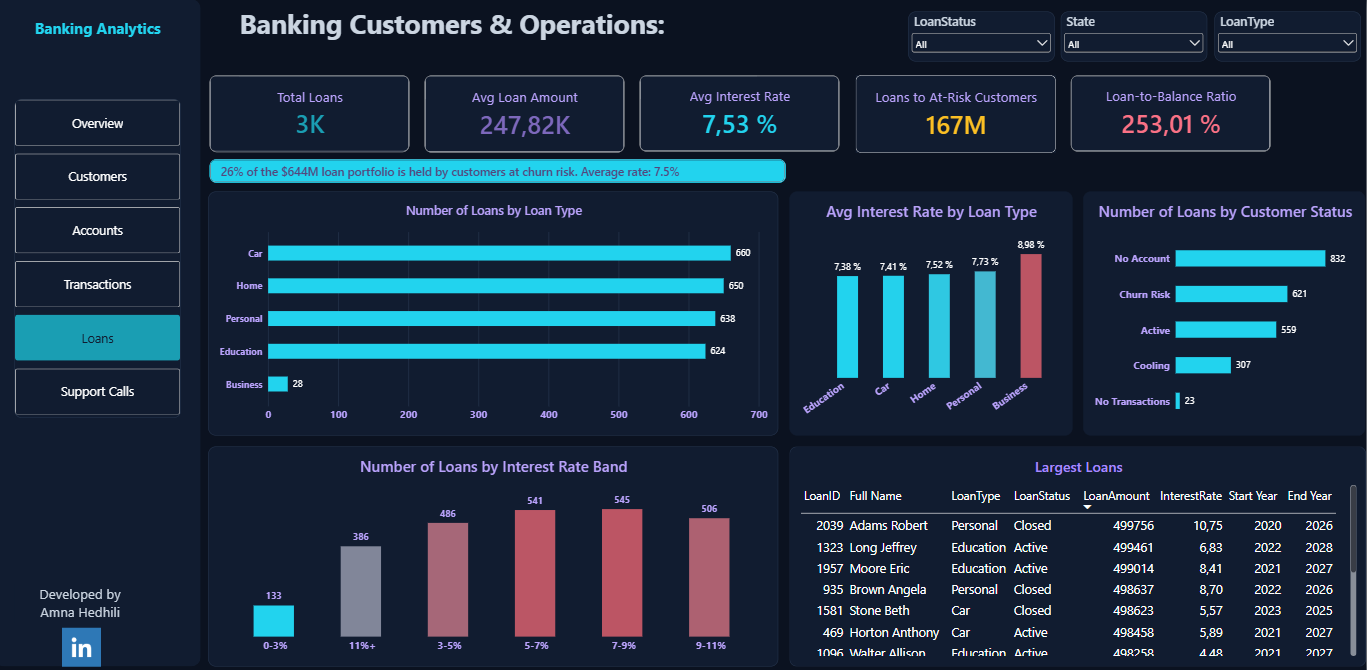

What the dashboard file says about the page in this screenshot:
{"tool":"powerbi","page":{"name":"Loans","canvas":[2200,1080],"ordinal":4},"visuals":[{"type":"cardVisual","fields":{"Data":["Loans Measures.Total Loans"]},"box":[348,122,320,123],"z":0},{"type":"textbox","box":[396,10,826,100],"z":1000},{"type":"cardVisual","title":"Valid Cards","fields":{"Data":["Loans Measures.Loans to At-Risk Customers"]},"box":[1381.4,122,320,124],"z":2000},{"type":"cardVisual","fields":{"Data":["Loans Measures.Avg Loan Amount"]},"box":[691.4,122,320,124],"z":3000},{"type":"cardVisual","fields":{"Data":["Loans Measures.Avg Interest Rate"]},"box":[1036.4,122,320,122],"z":4000},{"type":"cardVisual","fields":{"Data":["Loans Measures.Loan-to-Balance Ratio"]},"box":[1726.4,122,320,122],"z":5000},{"type":"clusteredBarChart","title":"Number of Loans by Loan Type","fields":{"Category":["loans.LoanType"],"Y":["Loans Measures.Total Loans"]},"box":[346,308,912,390],"z":6000},{"type":"clusteredColumnChart","title":"Number of Loans by Interest Rate Band","fields":{"Category":["loans.Rate Band"],"Y":["Loans Measures.Total Loans"]},"box":[346,716,912,352],"z":7000},{"type":"slicer","fields":{"Values":["loans.LoanStatus"]},"box":[1465.6,20,234,80],"z":8000},{"type":"slicer","fields":{"Values":["customers.State"]},"box":[1710.6,20,234,80],"z":9000},{"type":"slicer","fields":{"Values":["loans.LoanType"]},"box":[1955.6,20,234,80],"z":10000},{"type":"clusteredColumnChart","title":"Avg Interest Rate by Loan Type","fields":{"Category":["loans.LoanType"],"Y":["Loans Measures.Avg Interest Rate"]},"box":[1276,308,453,390],"z":11000},{"type":"shape","box":[4,0,330,1068],"z":12000},{"type":"textbox","box":[20,30,298,100],"z":13000},{"type":"tableEx","title":"Largest Loans","fields":{"Values":["loans.LoanID","customers.Full Name","loans.LoanType","loans.LoanStatus","loans.LoanAmount","loans.InterestRate","loans.Start Year","loans.End Year"]},"box":[1276,716,924,352],"z":14000},{"type":"clusteredBarChart","title":"Number of Loans by Customer Status","fields":{"Category":["customers.Customer Status"],"Y":["Loans Measures.Total Loans"]},"box":[1746,308,453,390],"z":15000},{"type":"pageNavigator","box":[36,160,266,510],"z":16000},{"type":"textbox","box":[36,936,210,64],"z":16001},{"type":"cardVisual","fields":{"Data":["Loans Measures.Loans Takeaway"]},"box":[348,255,922,38],"z":16002},{"type":"image","box":[108,1006,70,62],"z":16003}]}

Visuals, with their boxes on the page's 2200x1080 design canvas (x1, y1, x2, y2). These are canvas units, not pixel positions in the 1367x670 screenshot, which may show the page scaled, cropped or inside an application window:
cardVisual - Loans Measures.Total Loans: <region>348, 122, 668, 245</region>
textbox: <region>396, 10, 1222, 110</region>
"Valid Cards" cardVisual: <region>1381, 122, 1701, 246</region>
cardVisual - Loans Measures.Avg Loan Amount: <region>691, 122, 1011, 246</region>
cardVisual - Loans Measures.Avg Interest Rate: <region>1036, 122, 1356, 244</region>
cardVisual - Loans Measures.Loan-to-Balance Ratio: <region>1726, 122, 2046, 244</region>
"Number of Loans by Loan Type" clusteredBarChart: <region>346, 308, 1258, 698</region>
"Number of Loans by Interest Rate Band" clusteredColumnChart: <region>346, 716, 1258, 1068</region>
slicer - loans.LoanStatus: <region>1466, 20, 1700, 100</region>
slicer - customers.State: <region>1711, 20, 1945, 100</region>
slicer - loans.LoanType: <region>1956, 20, 2190, 100</region>
"Avg Interest Rate by Loan Type" clusteredColumnChart: <region>1276, 308, 1729, 698</region>
shape: <region>4, 0, 334, 1068</region>
textbox: <region>20, 30, 318, 130</region>
"Largest Loans" tableEx: <region>1276, 716, 2200, 1068</region>
"Number of Loans by Customer Status" clusteredBarChart: <region>1746, 308, 2199, 698</region>
pageNavigator: <region>36, 160, 302, 670</region>
textbox: <region>36, 936, 246, 1000</region>
cardVisual - Loans Measures.Loans Takeaway: <region>348, 255, 1270, 293</region>
image: <region>108, 1006, 178, 1068</region>
